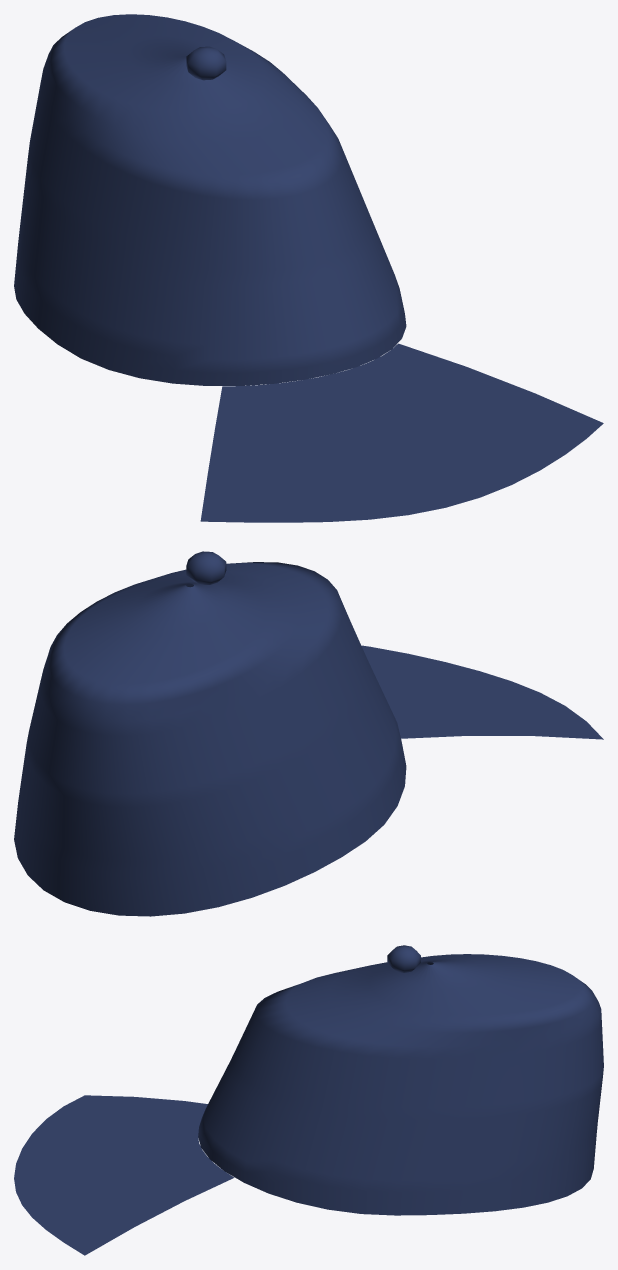
The model's file is cap_baseball_f.glb.
3 views of the same model, one above another, from view 1: azimuth 30°, elevation 25°; view 2: azimuth 150°, elevation 25°; view 3: azimuth 270°, elevation 25° (orthographic). The views are drawn at different scales.
Visible parts, largest first — view 1: hair; view 2: hair; view 3: hair.
Part boxes in pixels (x1,y1,x2,y2): hair: (14, 14, 603, 522); hair: (14, 551, 603, 916); hair: (14, 945, 603, 1255).
Bounding box in the file's own units: 0.2352 × 0.1579 × 0.3656.
